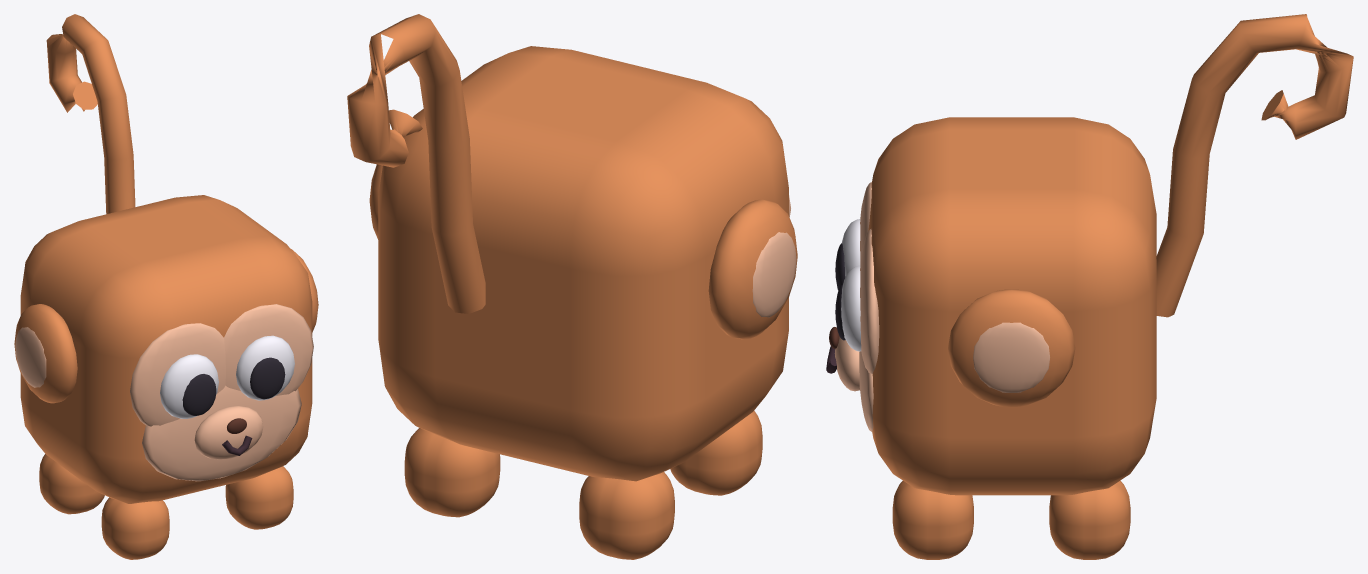
Rendered from pet-monkey.glb.
3 renders of one model, left to right at view 1: azimuth 30°, elevation 25°; view 2: azimuth 150°, elevation 25°; view 3: azimuth 270°, elevation 25°, orthographic. The views are drawn at different scales.
Parts seen in each view (by area): view 1: body, face_mask (×3), curled_tail, foot_L_front, ear_-1, foot_R_front, muzzle, foot_L_back, eye_white_-1, eye_white_1, ear_inner_-1, pupil_1 (+2 smaller); view 2: body, curled_tail, foot_L_back, ear_-1, foot_R_back, foot_L_front, ear_inner_-1, ear_1; view 3: body, curled_tail, ear_1, foot_R_back, foot_R_front, ear_inner_1, face_mask (×2), eye_white_1, muzzle, eye_white_-1.
Boxes of the visible parts, bbox=[...] form: body: bbox=[20, 195, 312, 503]; face_mask (×3): bbox=[130, 304, 313, 481]; curled_tail: bbox=[46, 14, 135, 214]; foot_L_front: bbox=[101, 497, 169, 559]; ear_-1: bbox=[14, 304, 77, 403]; foot_R_front: bbox=[225, 466, 293, 529]; muzzle: bbox=[194, 406, 263, 459]; foot_L_back: bbox=[39, 454, 104, 514]; eye_white_-1: bbox=[160, 354, 218, 418]; eye_white_1: bbox=[236, 335, 294, 400]; ear_inner_-1: bbox=[15, 327, 46, 387]; pupil_1: bbox=[250, 357, 285, 399]; body: bbox=[378, 46, 788, 481]; curled_tail: bbox=[347, 14, 485, 313]; foot_L_back: bbox=[579, 472, 674, 559]; ear_-1: bbox=[708, 199, 797, 339]; foot_R_back: bbox=[404, 428, 500, 517]; foot_L_front: bbox=[670, 410, 762, 495]; ear_inner_-1: bbox=[752, 232, 796, 317]; ear_1: bbox=[369, 164, 382, 239]; body: bbox=[868, 117, 1156, 495]; curled_tail: bbox=[1156, 14, 1353, 317]; ear_1: bbox=[948, 289, 1075, 406]; foot_R_back: bbox=[1049, 480, 1130, 559]; foot_R_front: bbox=[892, 481, 973, 559]; ear_inner_1: bbox=[973, 322, 1049, 392]; face_mask (×2): bbox=[859, 229, 879, 431]; eye_white_1: bbox=[841, 265, 861, 351]; muzzle: bbox=[834, 337, 859, 391]; eye_white_-1: bbox=[842, 219, 860, 277].
Bounding box in the file's own units: 1.4 × 1.96 × 1.82.
